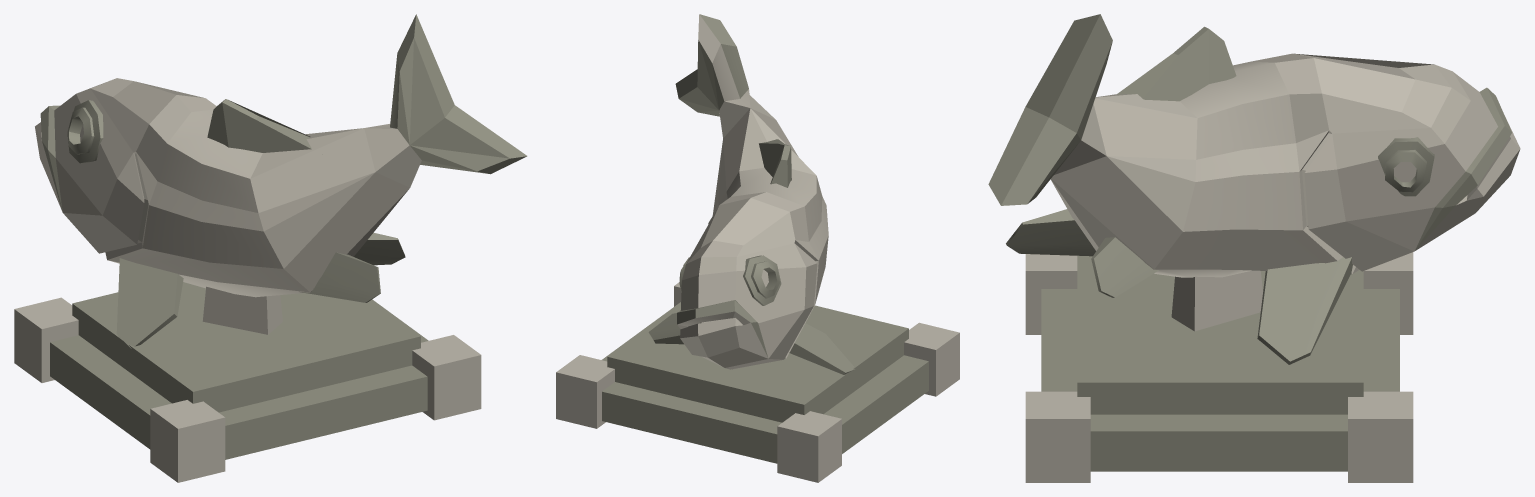
File: statue_fish.fbx
3 renders of one model, left to right at view 1: azimuth 30°, elevation 25°; view 2: azimuth 150°, elevation 25°; view 3: azimuth 270°, elevation 25°, orthographic. The views are drawn at different scales.
Parts seen in each view (by area): view 1: armystuff:footsoldier:armystuff:footsoldier:armystuff:footso; view 2: armystuff:footsoldier:armystuff:footsoldier:armystuff:footso; view 3: armystuff:footsoldier:armystuff:footsoldier:armystuff:footso.
Part boxes in pixels (x1,y1,x2,y2): armystuff:footsoldier:armystuff:footsoldier:armystuff:footso: [14, 14, 527, 482]; armystuff:footsoldier:armystuff:footsoldier:armystuff:footso: [556, 14, 959, 482]; armystuff:footsoldier:armystuff:footsoldier:armystuff:footso: [988, 14, 1520, 482].
Size of the model in its own units: 90.95 by 98.89 by 104.
1 material, 1 textured.
